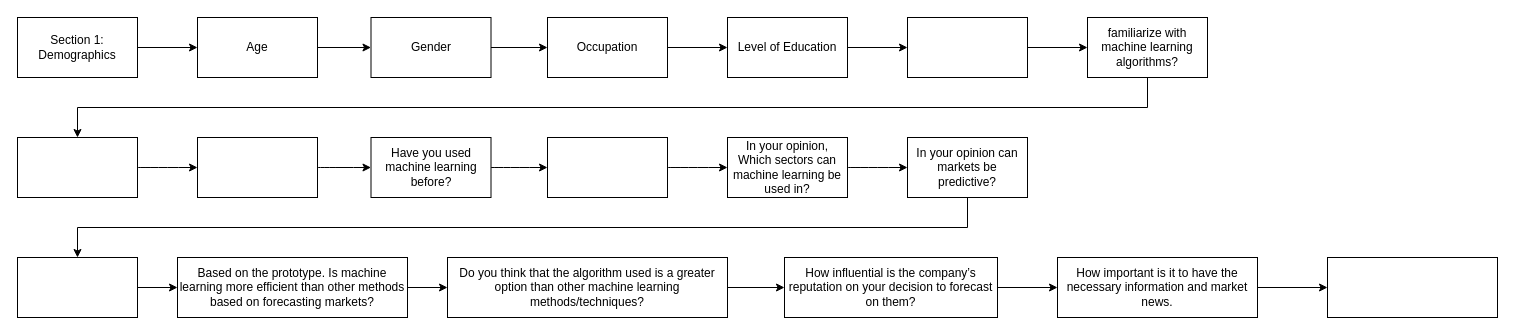
The diagram is 1515 pixels wide and 335 high, and some of its shapes have lost their labels. The centre of each missing label's shape, as x and y in pixels:
Field of Work: the point at 967,47
Has the practical session been intresting to you?: the point at 1412,287
Have you ever heard about machine learing?: the point at 257,167
If you used ML before, what type of project have been done?: the point at 607,167
Section 2: Machine Learning: the point at 77,167
Section 3: Prototype Performance: the point at 77,287
